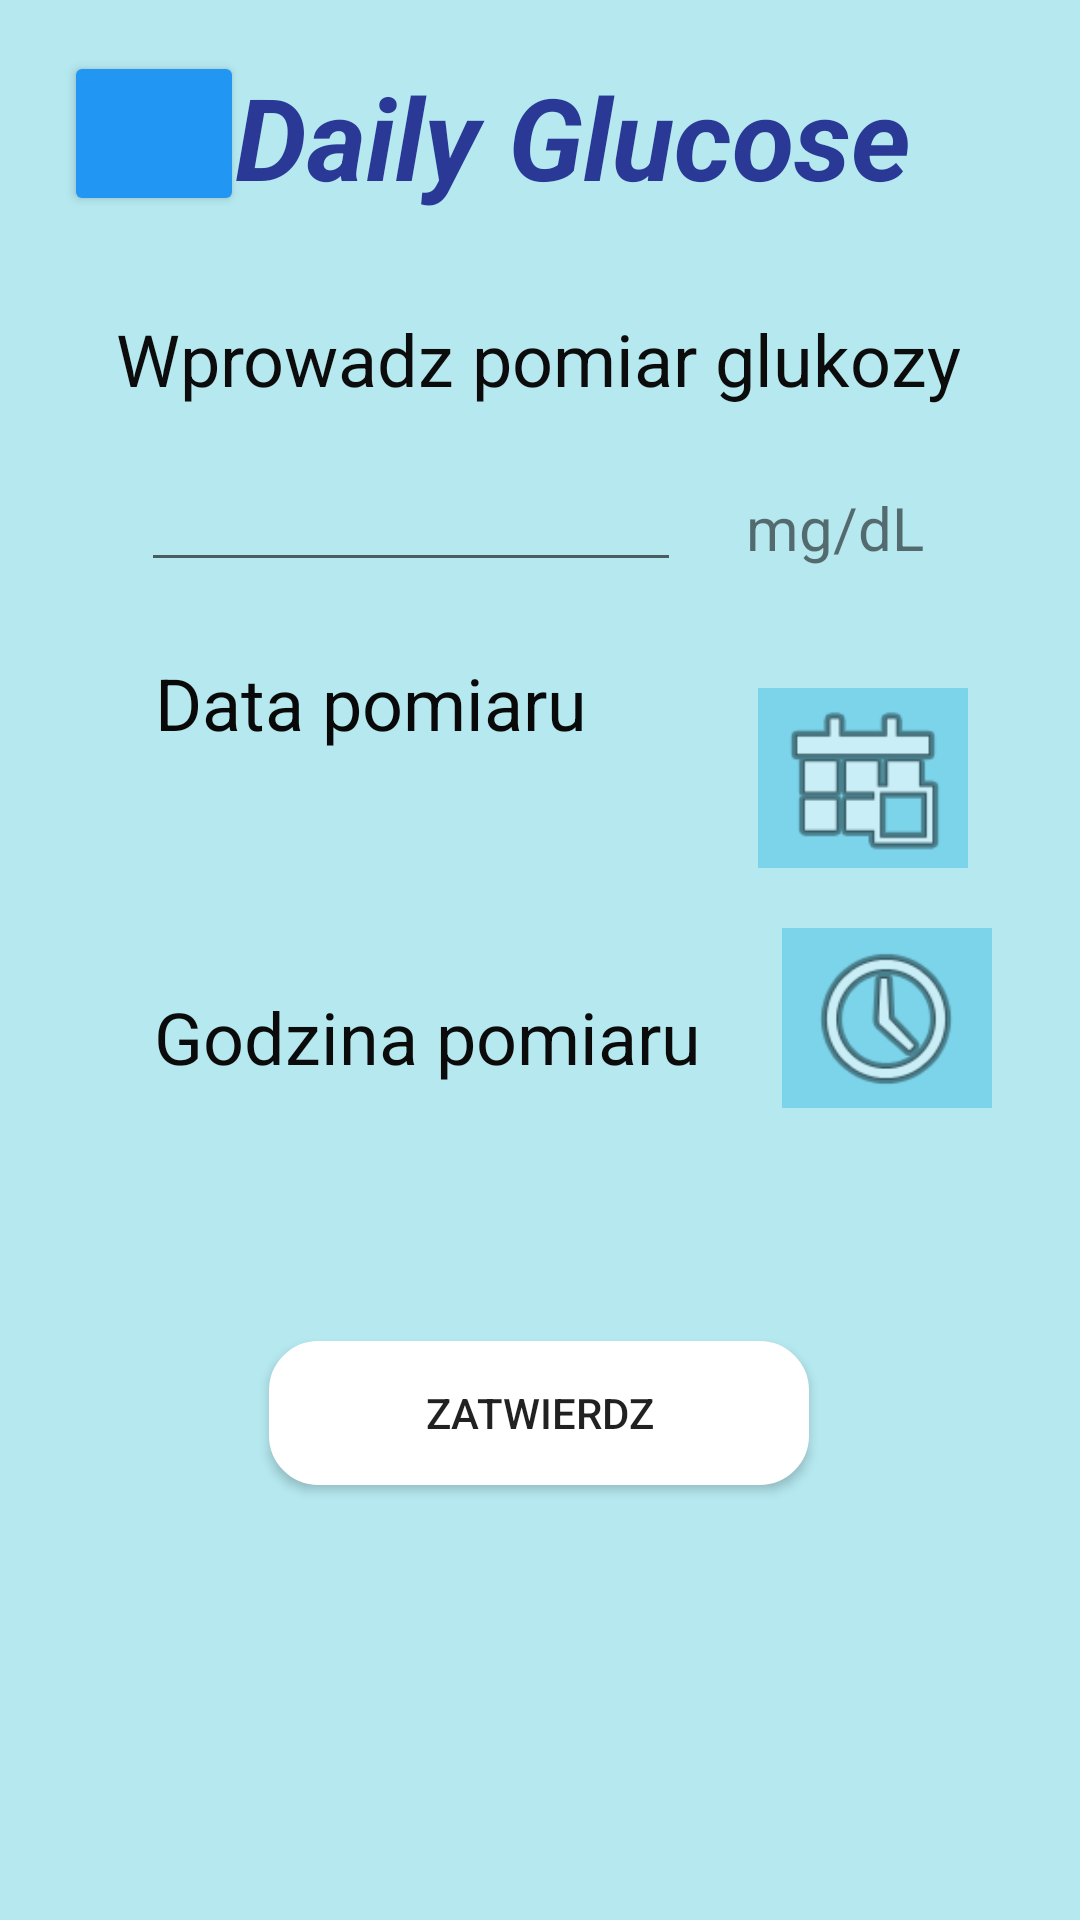

Named icons in this screenshot (1080x1920) and their bounding boxes, [x1,y1,x2,y2]:
today: [758,688,968,868]
